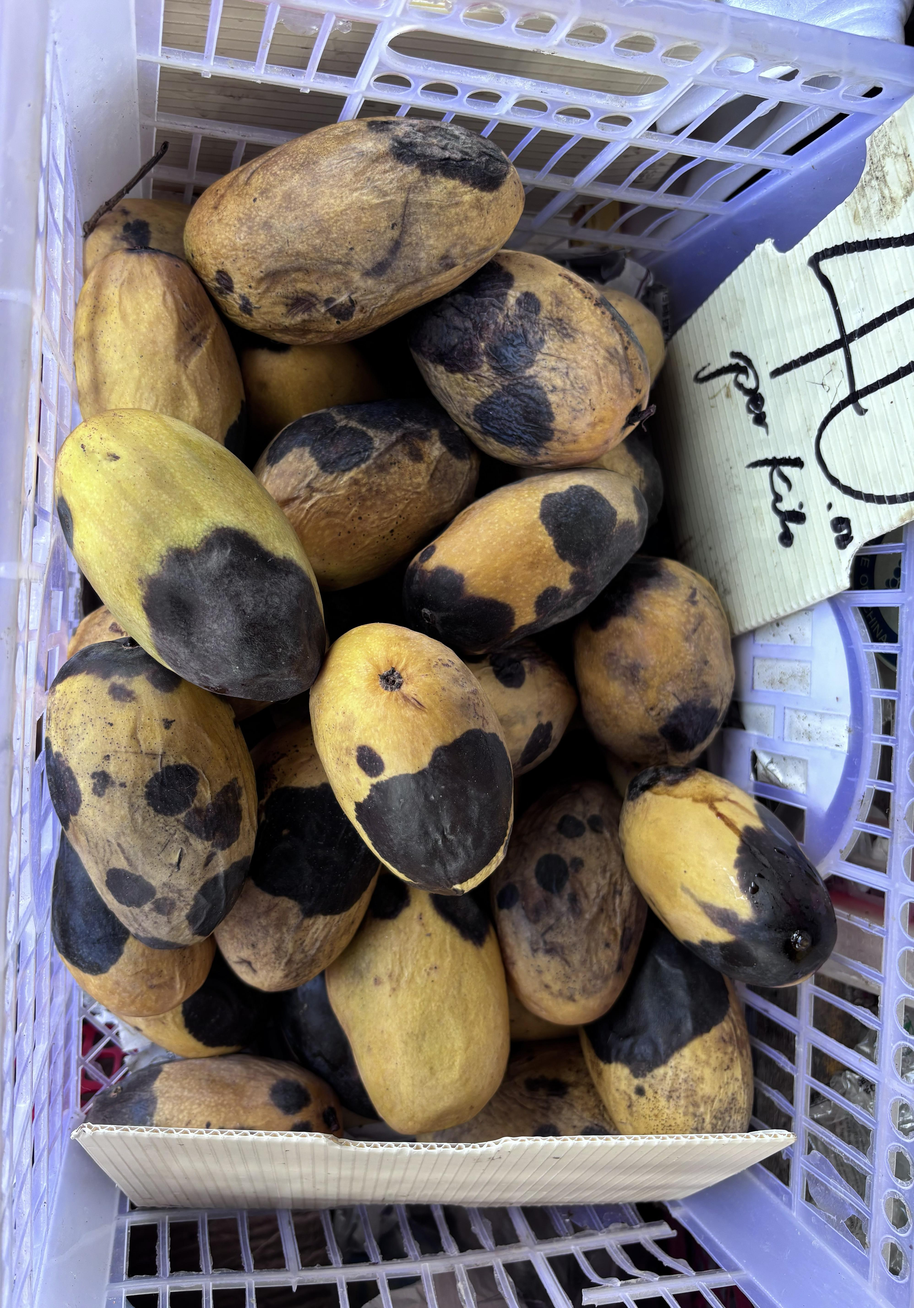mango: (55, 409, 325, 700), (184, 117, 524, 345), (310, 623, 513, 895), (619, 766, 836, 987)
occluded: (43, 638, 257, 953), (408, 250, 650, 469), (327, 872, 510, 1134), (403, 468, 647, 655), (214, 721, 381, 992), (255, 399, 479, 591), (490, 781, 646, 1026), (580, 916, 753, 1134), (74, 247, 246, 456), (574, 554, 734, 770), (52, 834, 215, 1018), (417, 1035, 618, 1143), (87, 1054, 343, 1136), (240, 342, 386, 462), (467, 641, 577, 777), (133, 953, 267, 1058), (280, 973, 376, 1118), (83, 198, 190, 276), (585, 428, 664, 528), (605, 290, 665, 386), (68, 605, 128, 657)
